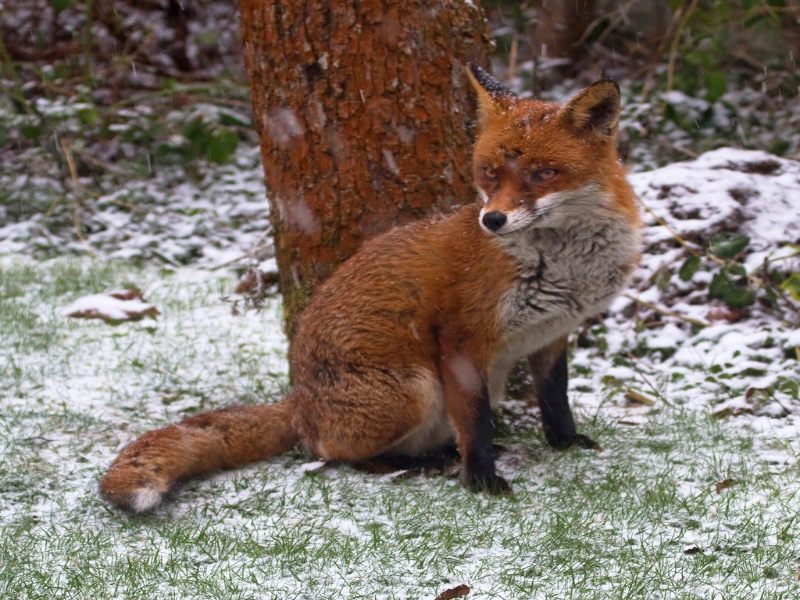fox: (96, 59, 652, 526)
